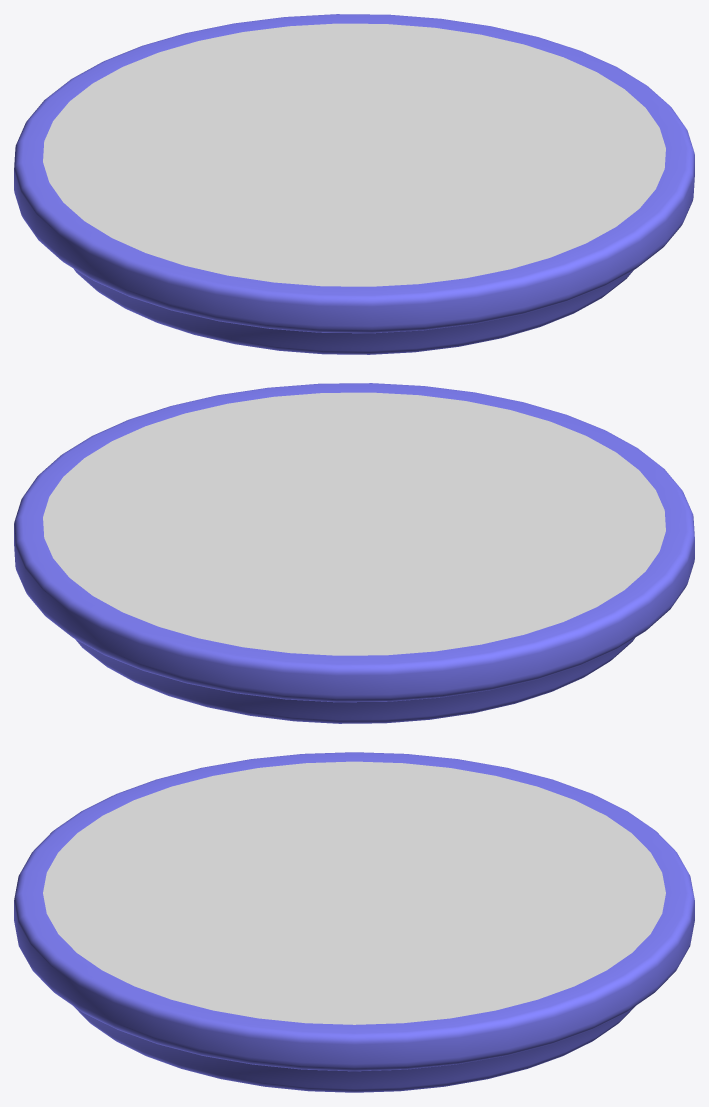
Rendered from Plataform.fbx.
3 renders of one model, top to bottom at view 1: azimuth 30°, elevation 25°; view 2: azimuth 150°, elevation 25°; view 3: azimuth 270°, elevation 25°, orthographic.
Parts seen in each view (by area): view 1: Cylinder; view 2: Cylinder; view 3: Cylinder.
Part boxes in pixels (x1,y1,x2,y2): Cylinder: (14, 14, 694, 354); Cylinder: (14, 383, 694, 723); Cylinder: (14, 752, 694, 1092).
Bounding box in the file's own units: 800 × 199 × 800.
